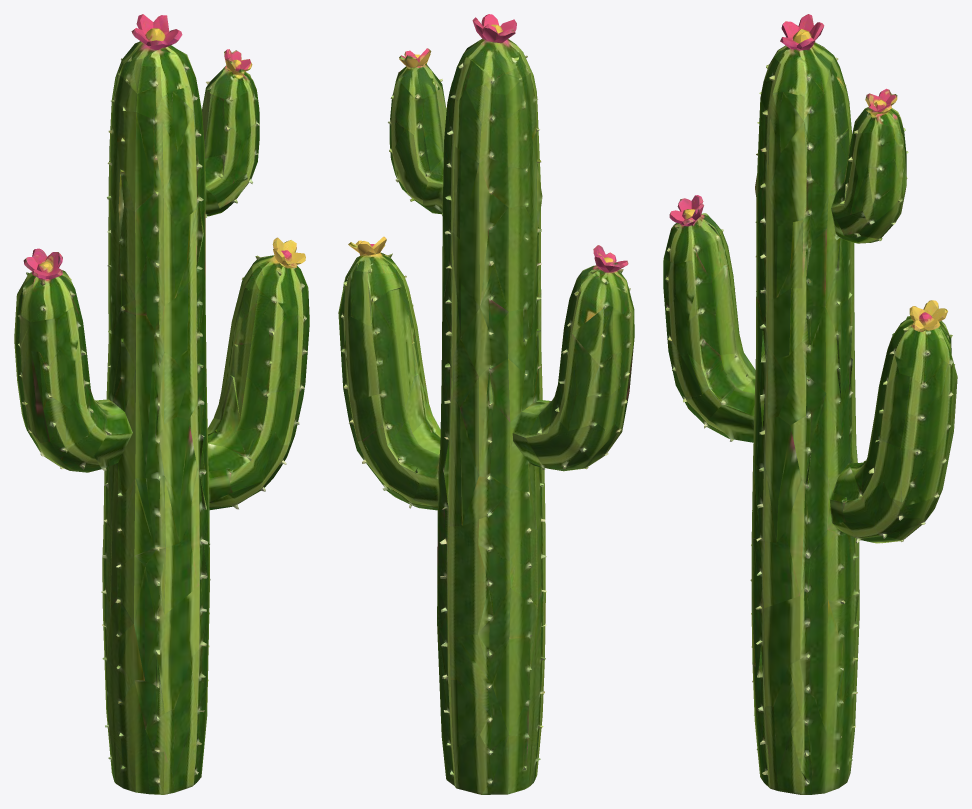
The model's file is desert_saguaro.glb.
The picture shows the model from 3 angles, left to right: view 1: azimuth 30°, elevation 25°; view 2: azimuth 150°, elevation 25°; view 3: azimuth 330°, elevation 25°; orthographic projection.
Bounding box in the file's own units: 0.7531 × 1.9 × 0.2368.
1 material, 1 textured.
